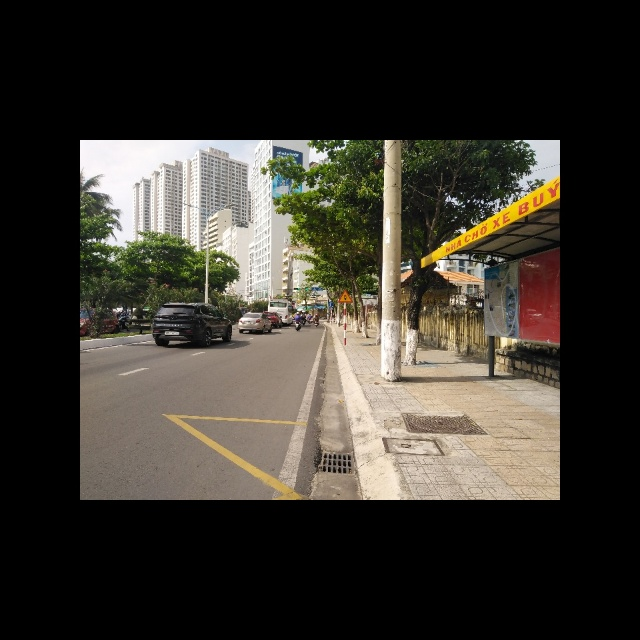Giao nhau có tín hiệu đèn: (338, 288, 353, 303)
